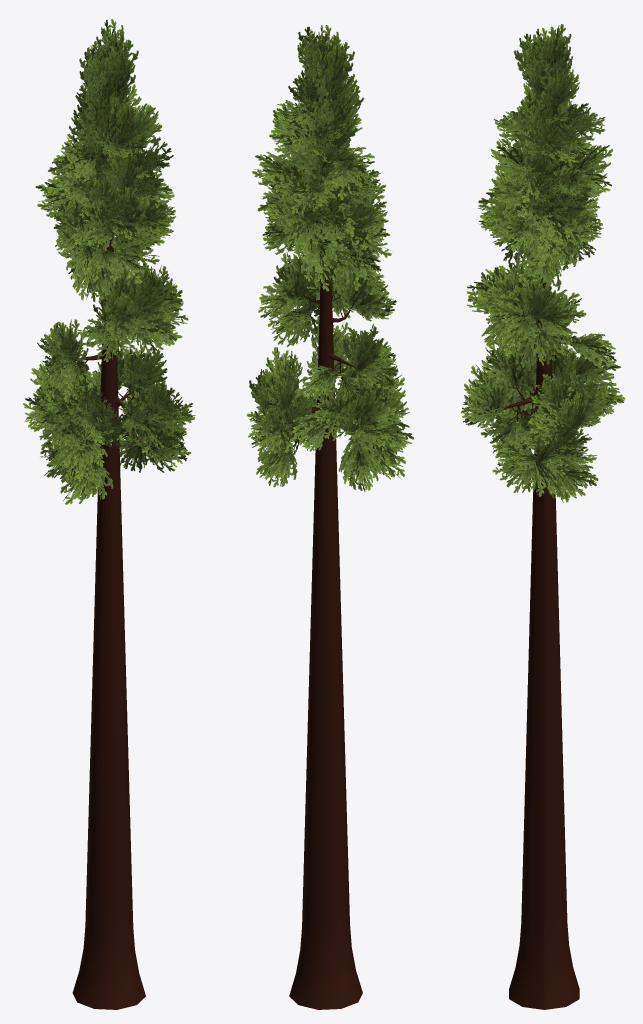
The model's file is Redwood_1.obj.
3 views of the same model, side by side, from view 1: azimuth 30°, elevation 25°; view 2: azimuth 150°, elevation 25°; view 3: azimuth 270°, elevation 25° (orthographic).
Parts seen in each view (by area): view 1: Redwood_1; view 2: Redwood_1; view 3: Redwood_1.
Boxes of the visible parts, x1,y1,x2,y2 form: Redwood_1: (23, 19, 195, 1009); Redwood_1: (246, 25, 413, 1009); Redwood_1: (461, 24, 625, 1009).
Bounding box in the file's own units: 18.32 × 107 × 17.84.
Materials: 2 (1 with a texture image).
